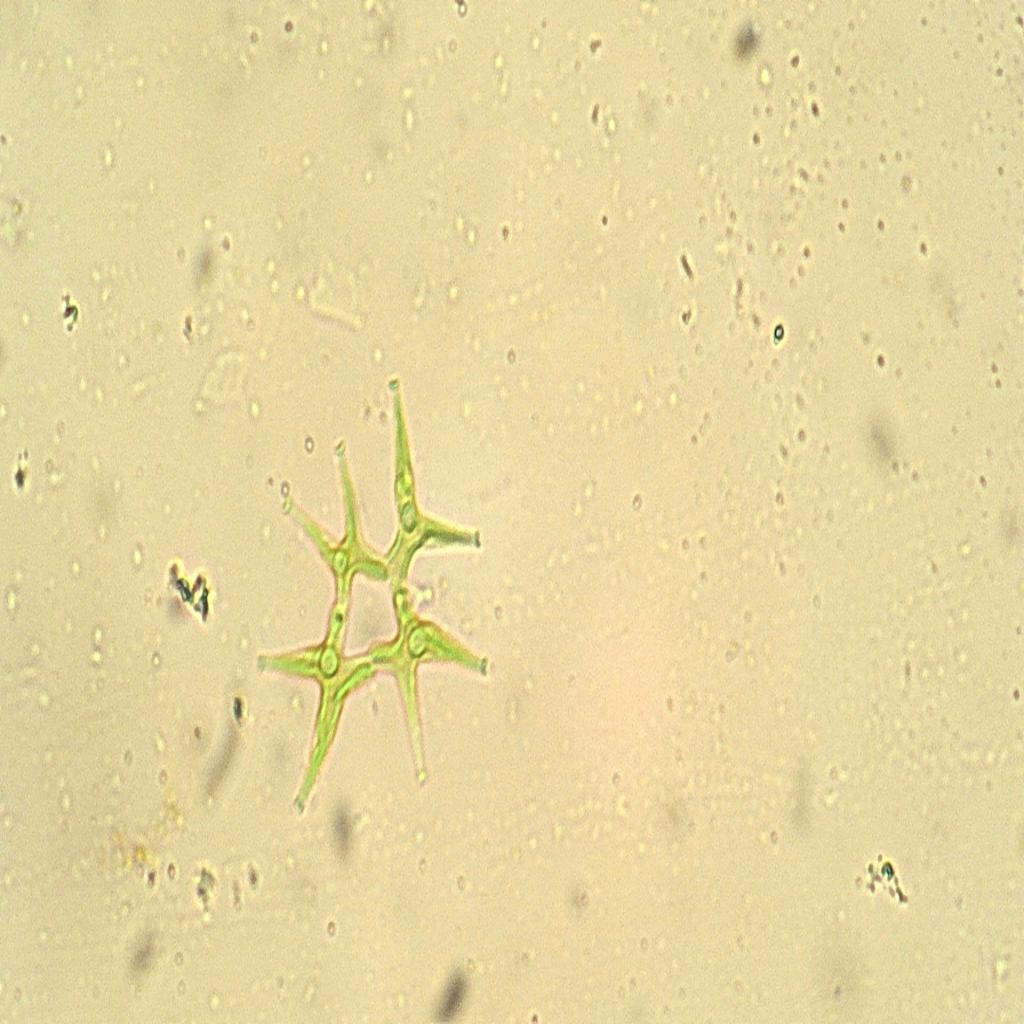Pediastrum_75FI: (237, 366, 511, 844)
